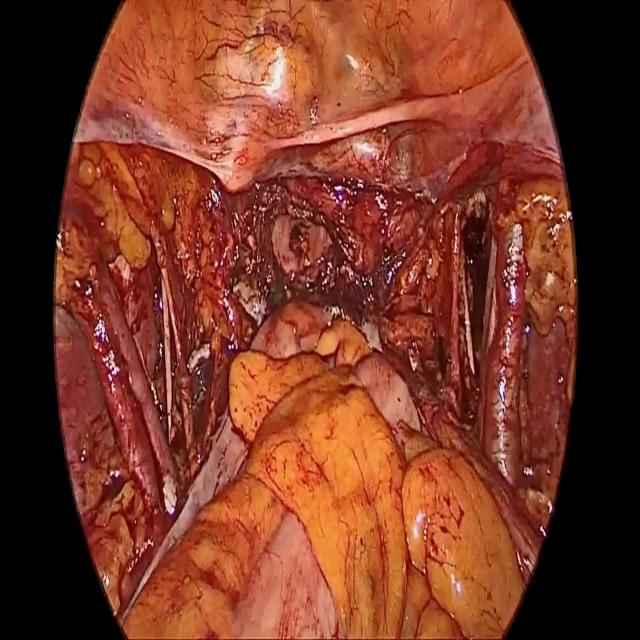surgical-area: (54, 0, 576, 639)
